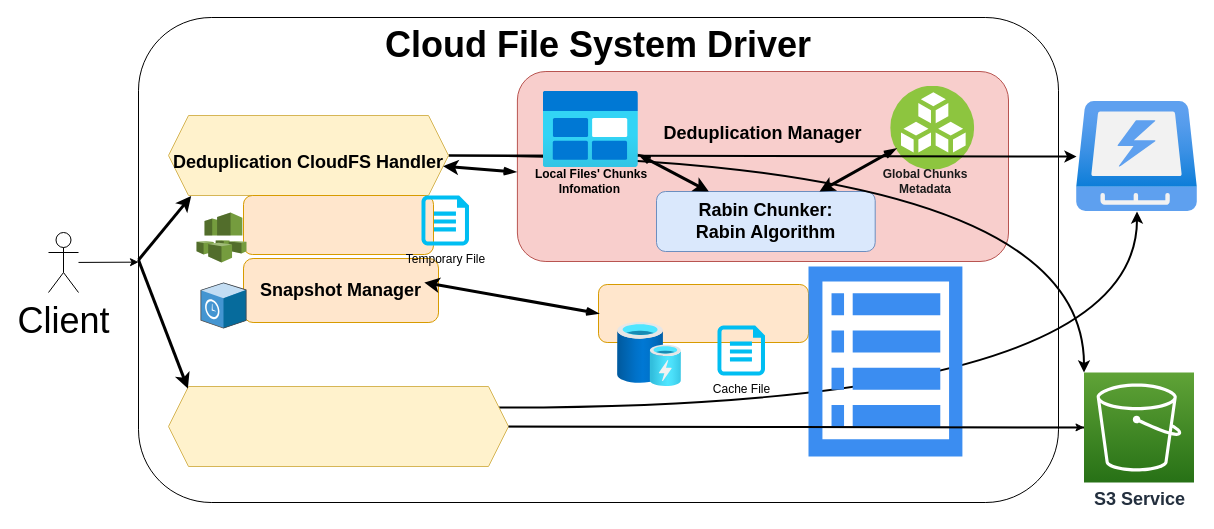
Image size: 1214x529. Some labels were removed from this diagram. The shapes that lost their labels are listed below. From the top down, each one's centre as x and y in pixels, then its label:
point 1136,156: SSD
point 338,224: Chunk Manager
point 703,313: Cache Manager
point 885,361: Chunk Node Chunk Node Chunk Node Chunk Node LRU's Doubly Linked List
point 338,426: Non-Deduplication CloudFS Handler
